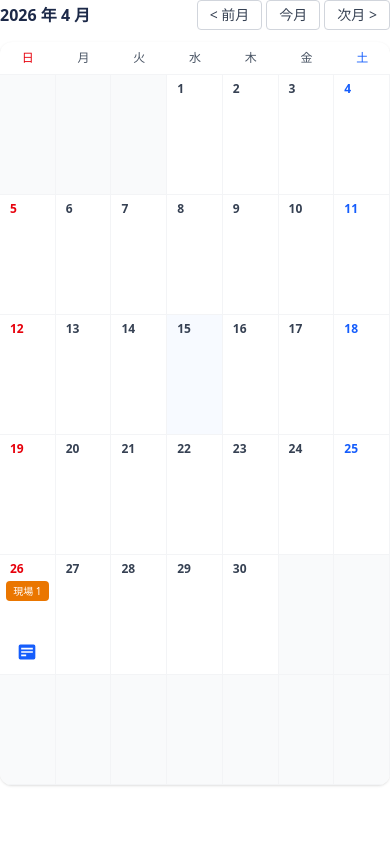
it: DispatchCalendar › モーダルタイトルは「YYYY年M月D日（曜）の出動一覧」形式である
Click the button with test id "calendar-cell-sp-detail-button" at (27, 652), box [11,636,43,668]
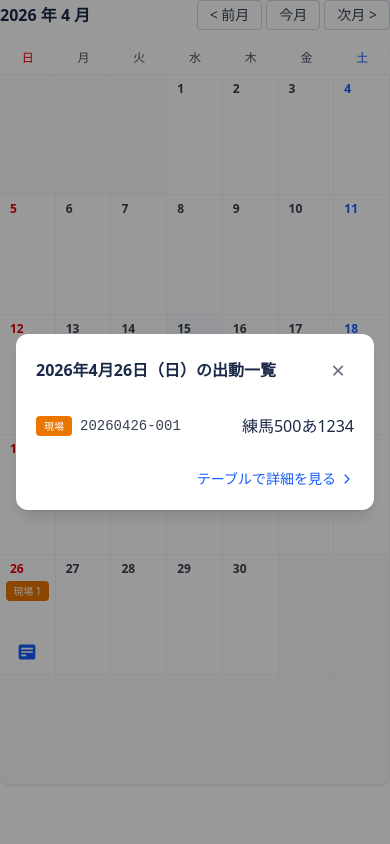
Expected: the element with test id "calendar-modal" is shown
Expected: the heading "2026年4月26日（日）の出動一覧" is shown, [36,358,276,382]
